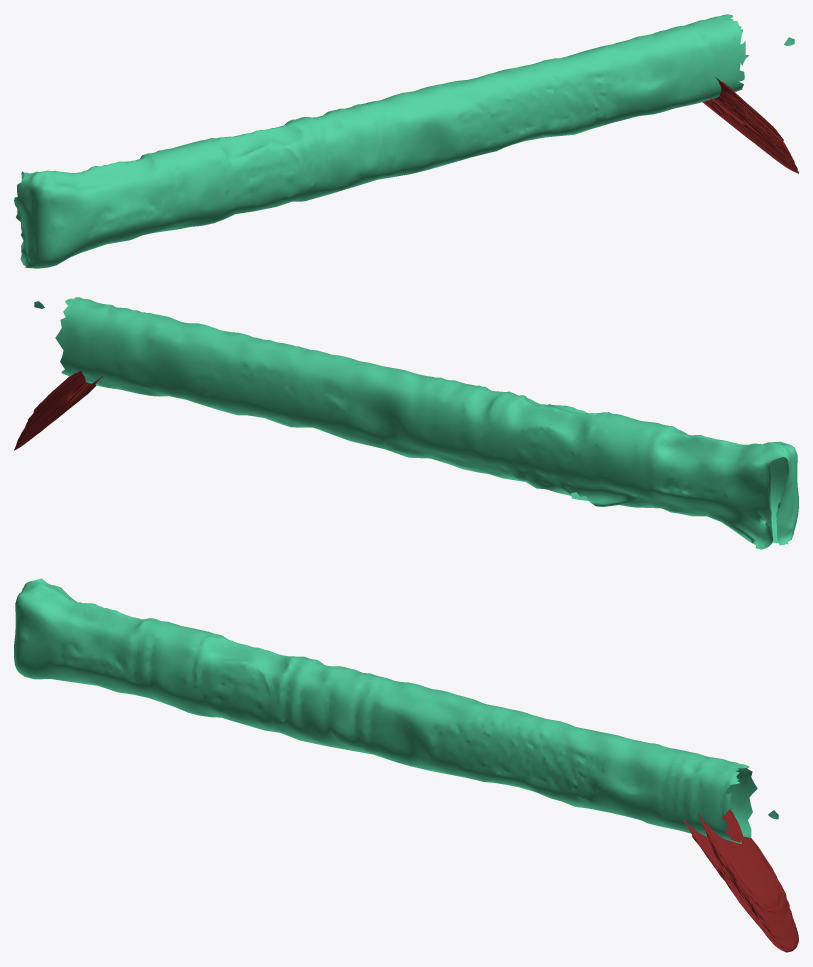
Rendered from object_deformed_2.obj.
3 views of the same model, one above another, from view 1: azimuth 30°, elevation 25°; view 2: azimuth 150°, elevation 25°; view 3: azimuth 330°, elevation 25° (orthographic).
Bounding box in the file's own units: 0.4442 × 0.1015 × 0.0369.
